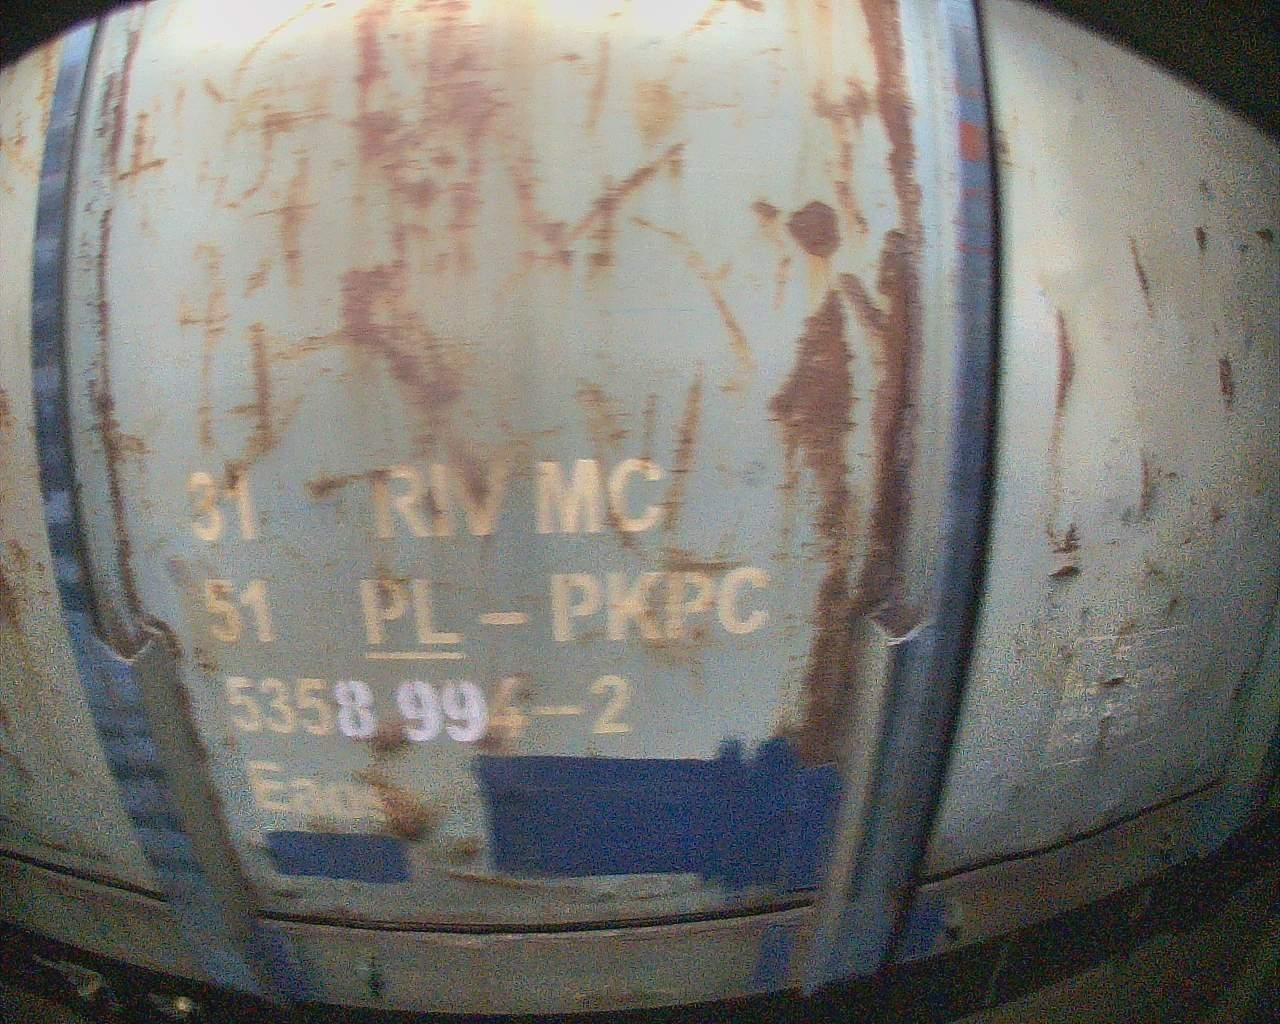UIC: (181, 455, 781, 832)
